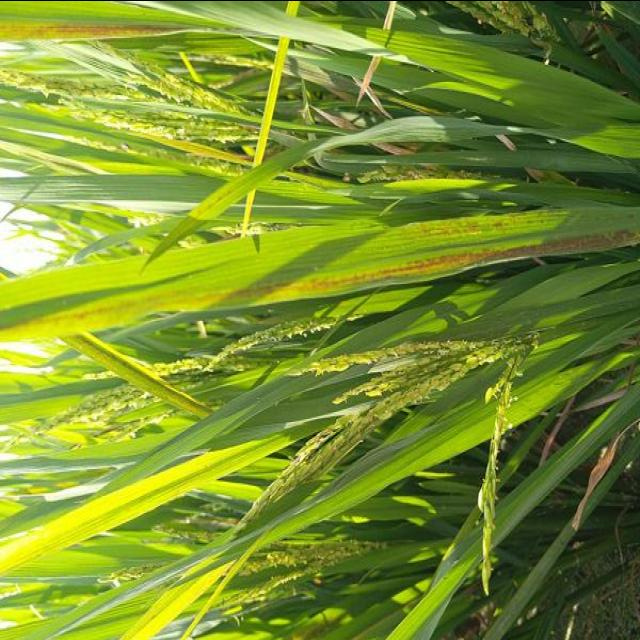Leaf Streak: (0, 228, 640, 342), (67, 336, 214, 417), (0, 16, 208, 43), (409, 208, 565, 235), (276, 619, 327, 640)
